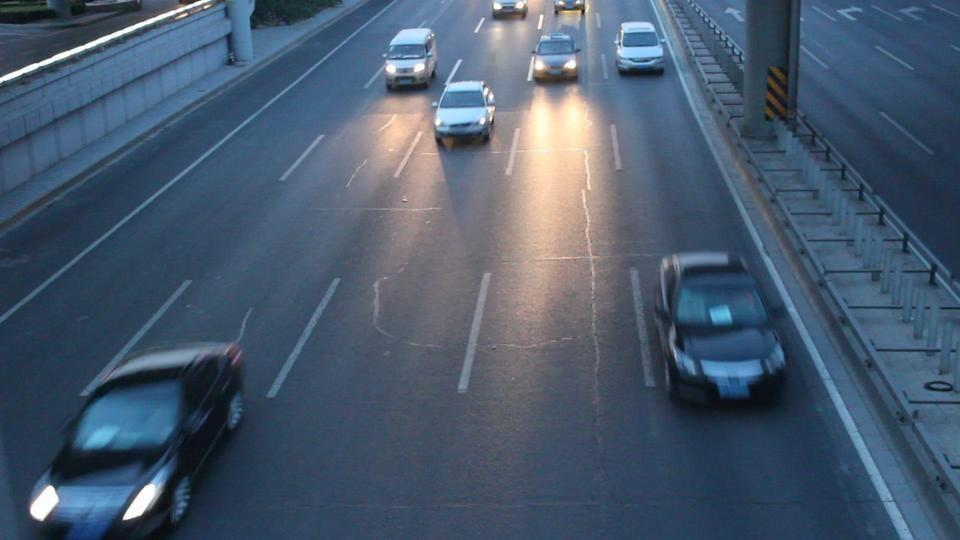car: (27, 341, 248, 538), (652, 250, 789, 408), (432, 79, 497, 147), (382, 28, 439, 91), (613, 20, 668, 76), (526, 32, 580, 83), (491, 0, 529, 20), (552, 0, 588, 17)
